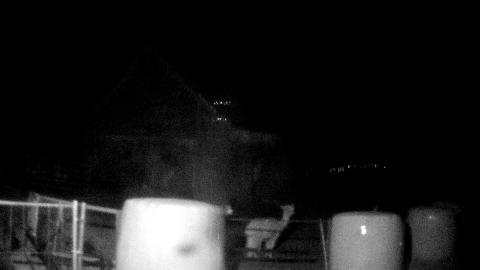sheep: (243, 203, 297, 261), (225, 204, 235, 216)
